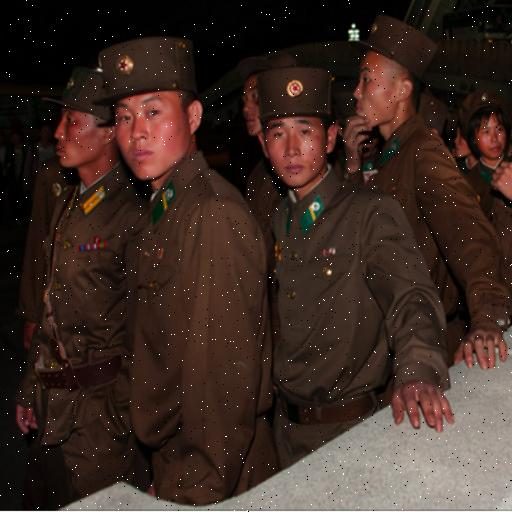north army: (6, 17, 512, 460)
